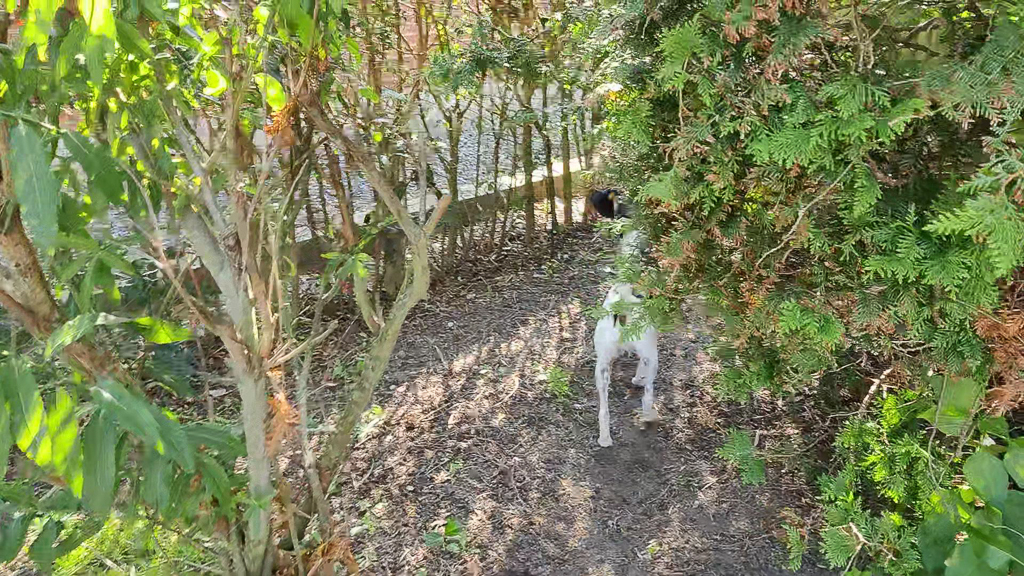Dog: (572, 215, 683, 456)
